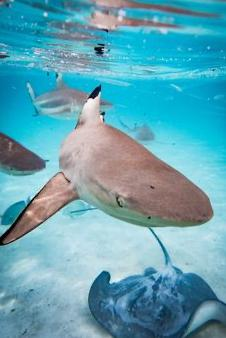Shark -Selachimorpha-: (0, 82, 213, 245)
